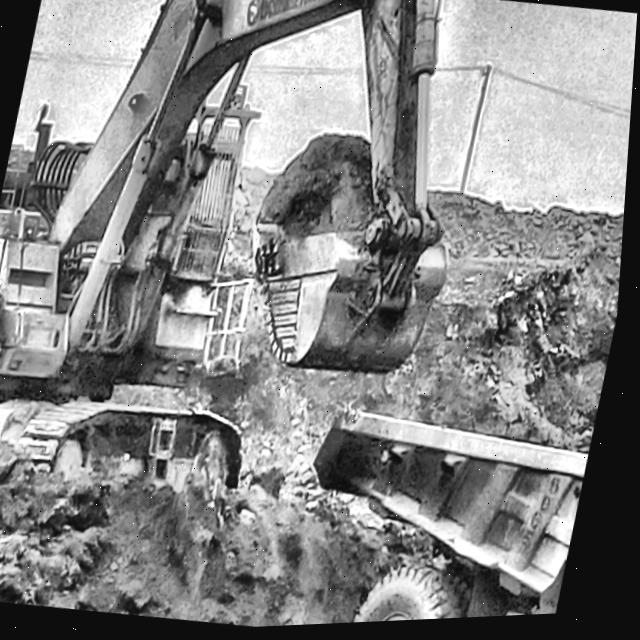dump_truck: (320, 413, 595, 626)
excavator: (0, 0, 453, 497)
